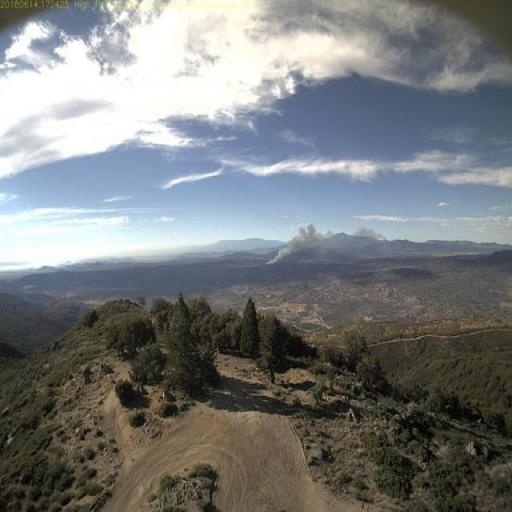smoke: (262, 219, 386, 267)
